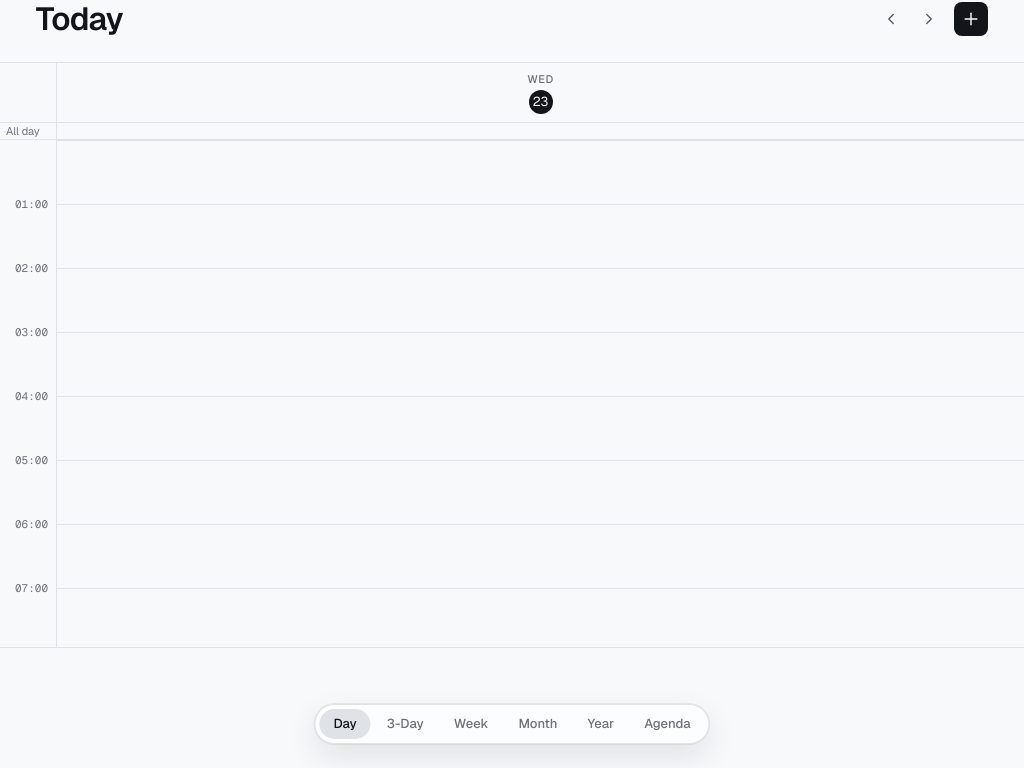
Scenario: CalendarBoard jump picker › in Year view the picker jumps to a year
Click the tab "Year".
click(601, 724)  # box [573,709,628,739]
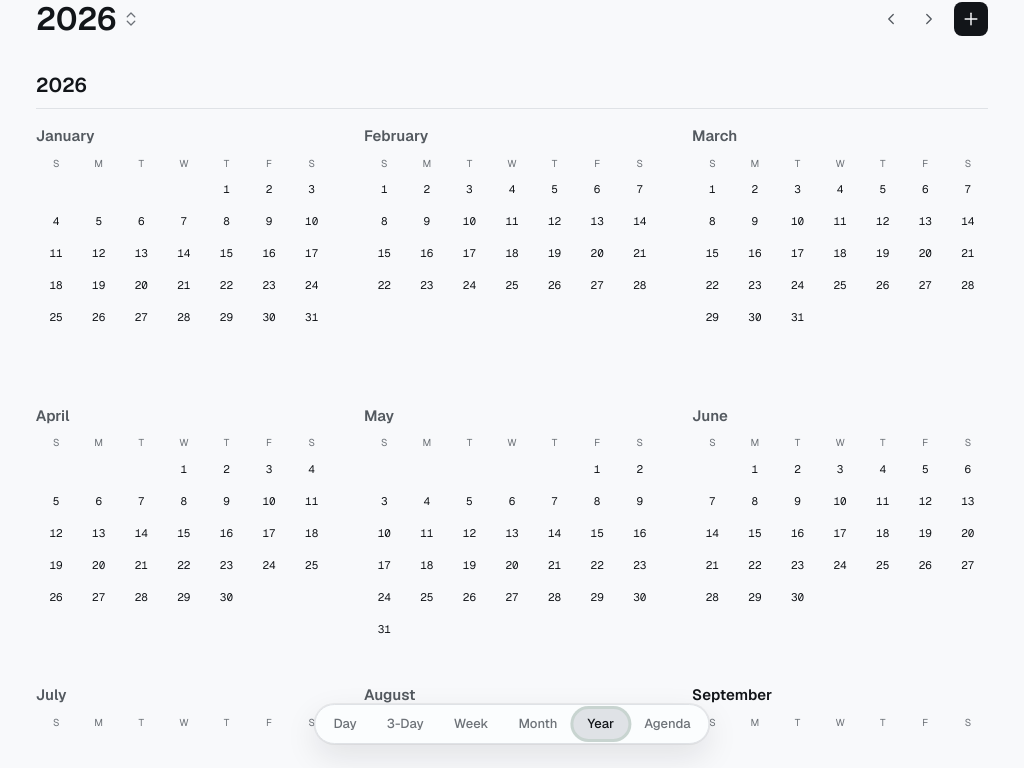
Click the button "2026".
click(88, 19)  # box [36,0,140,38]
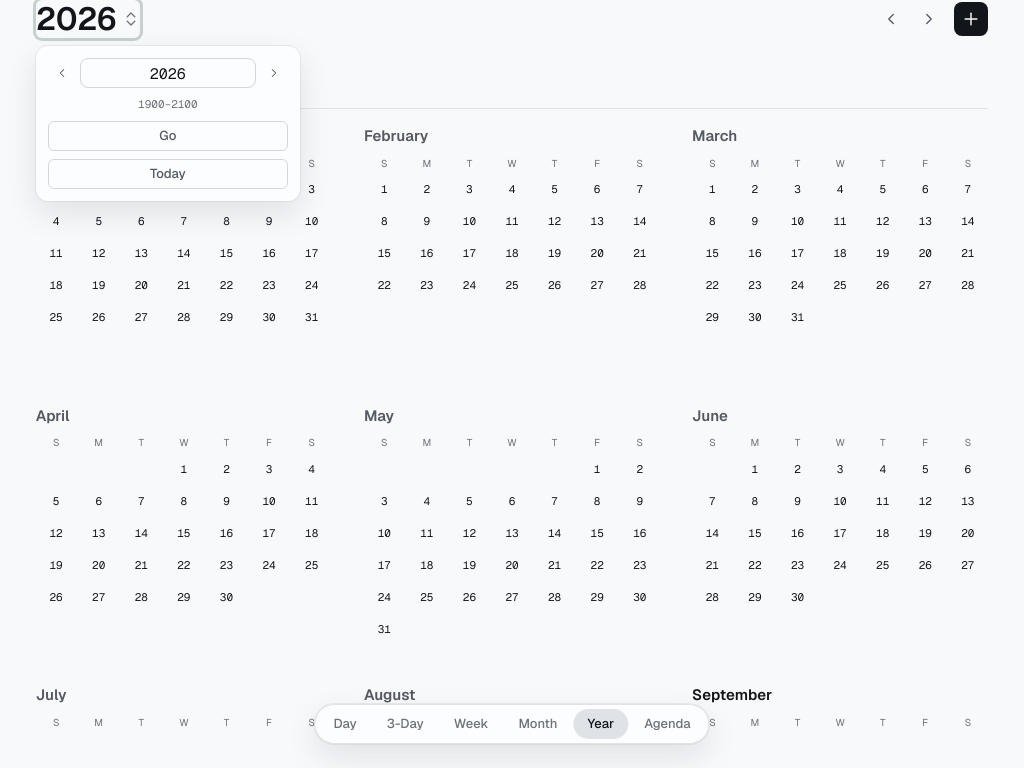
Replace the text in the field named "Year" with "2031" at {"x": 168, "y": 73}, box [80,58,256,88]
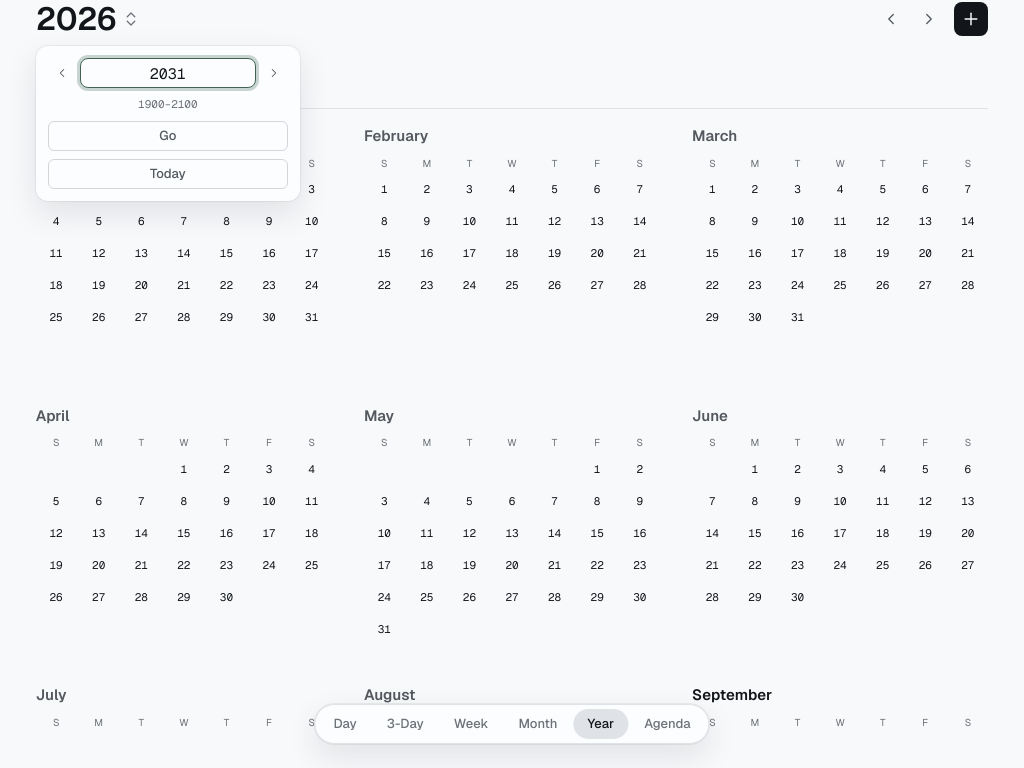
Click the button "Go".
click(168, 136)  # box [48,121,288,151]
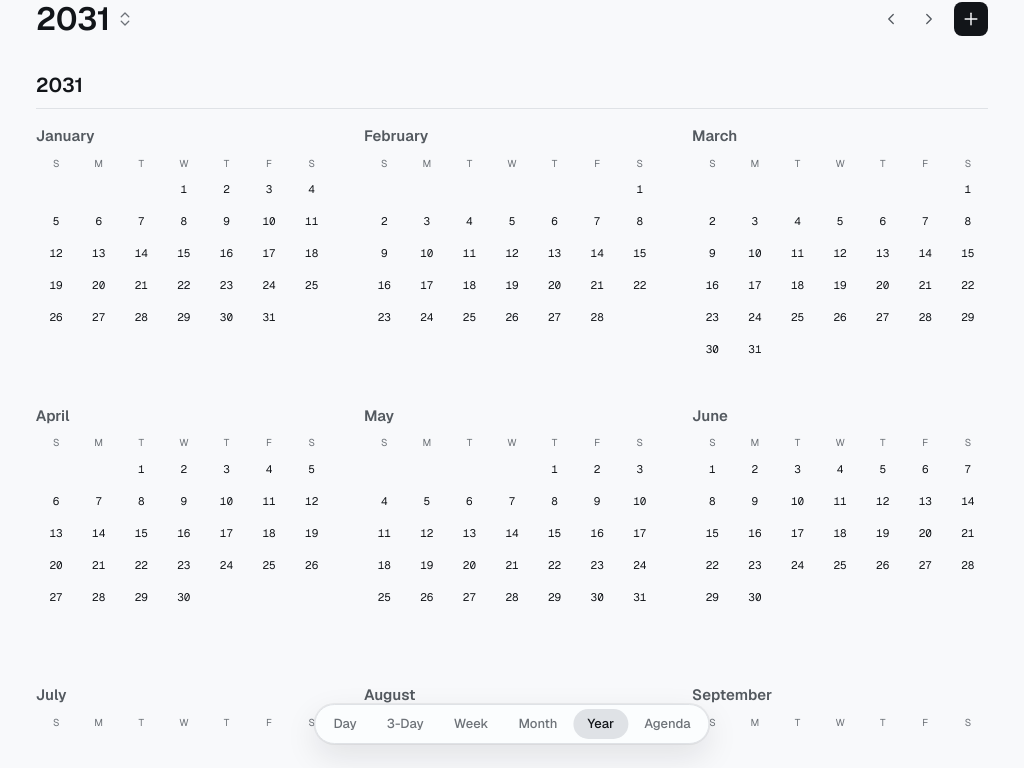
Check: the button "2031" is shown, box [36,0,134,38]
